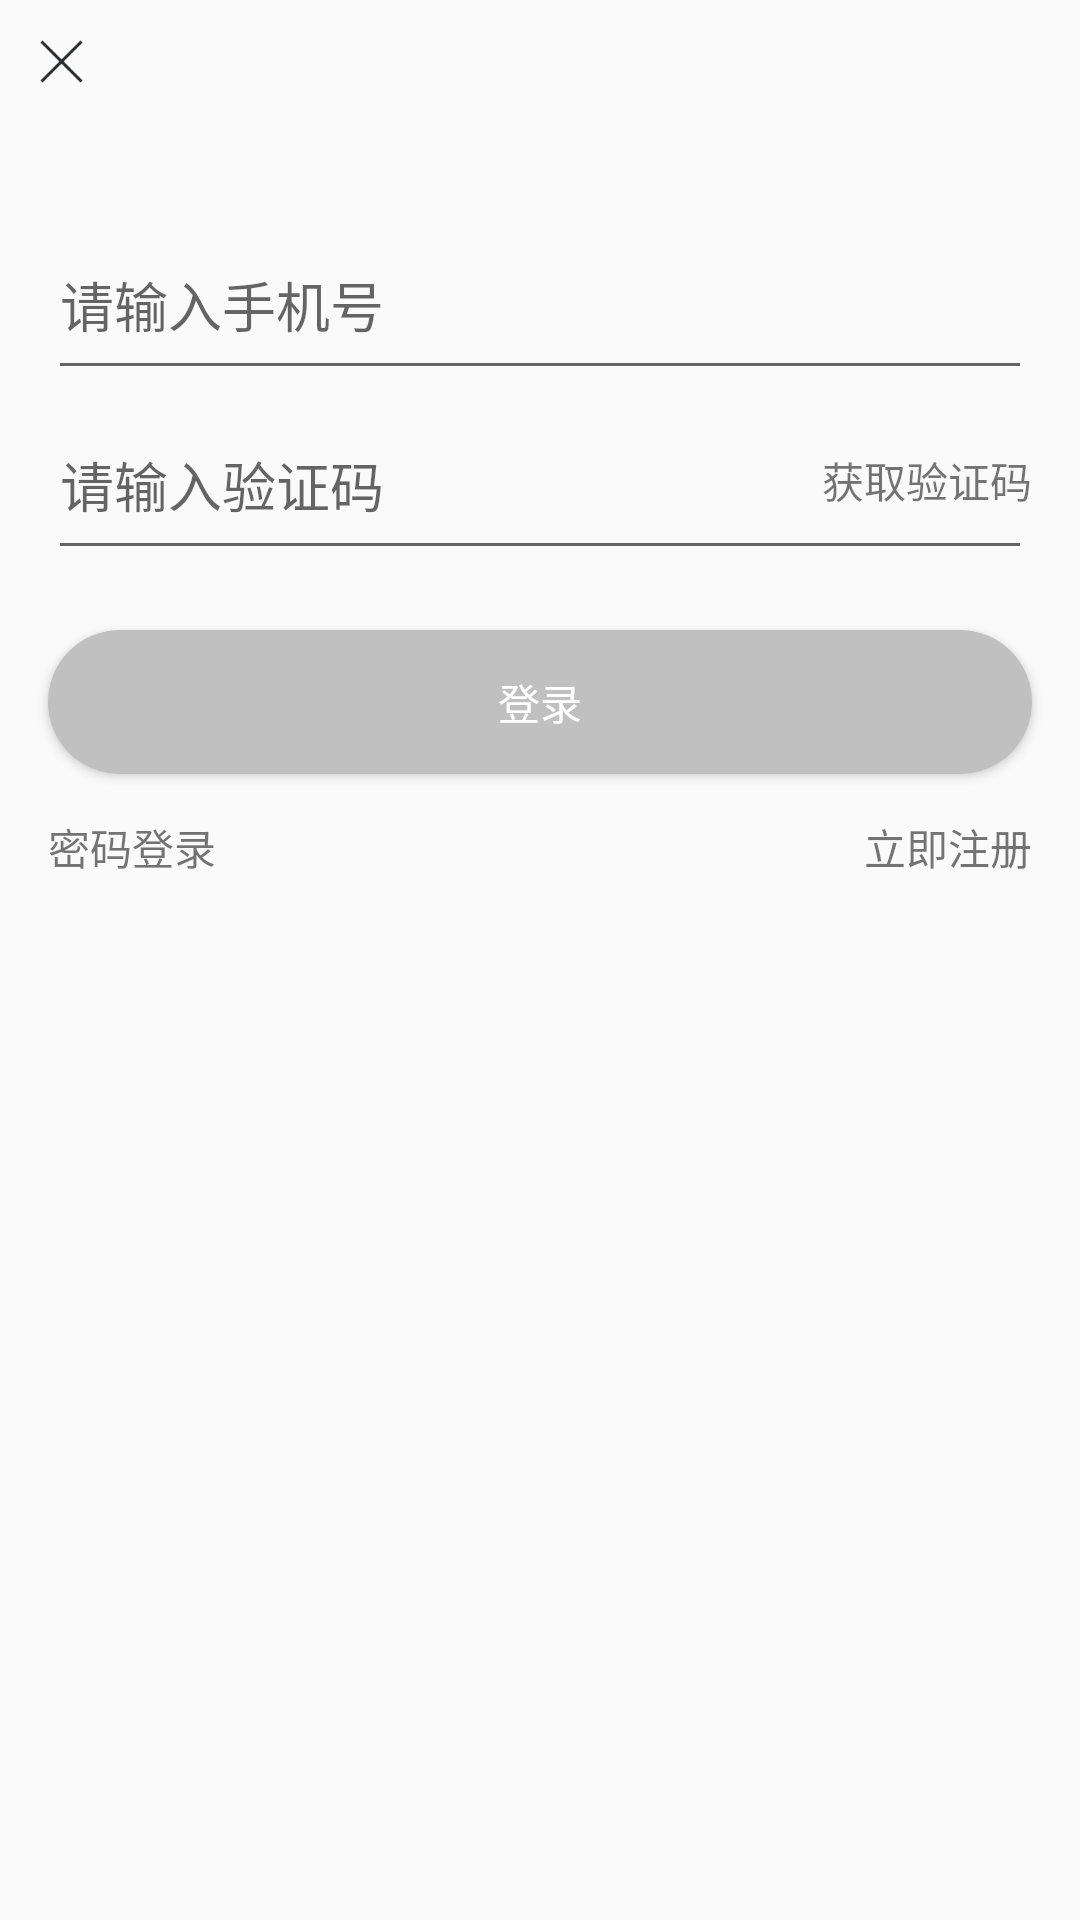

Point at icon controls on the screen. Image size 1080px×1920px, points as (x,y).
close: (61,61)
